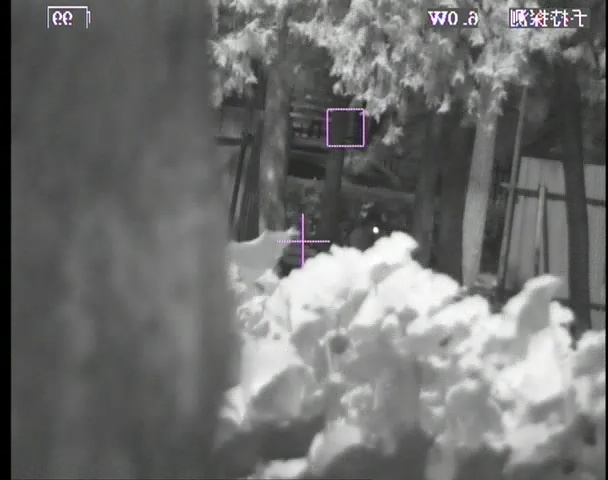my: (372, 224, 380, 235)
